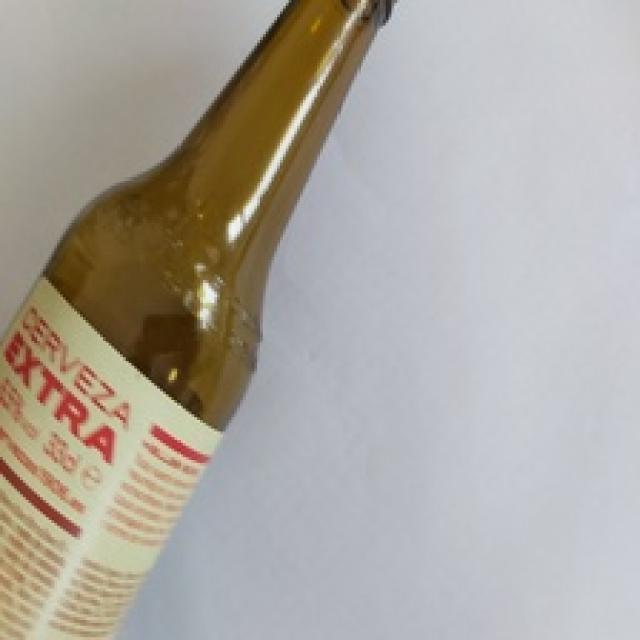Glass: (0, 0, 393, 640)
